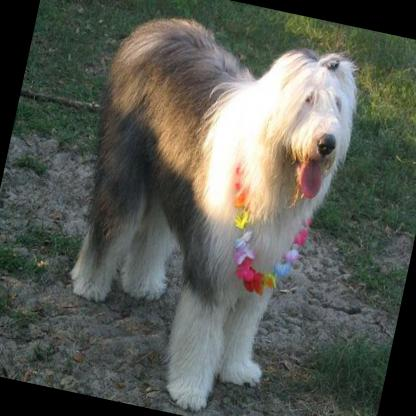Old_English_sheepdog: (40, 0, 369, 416)
